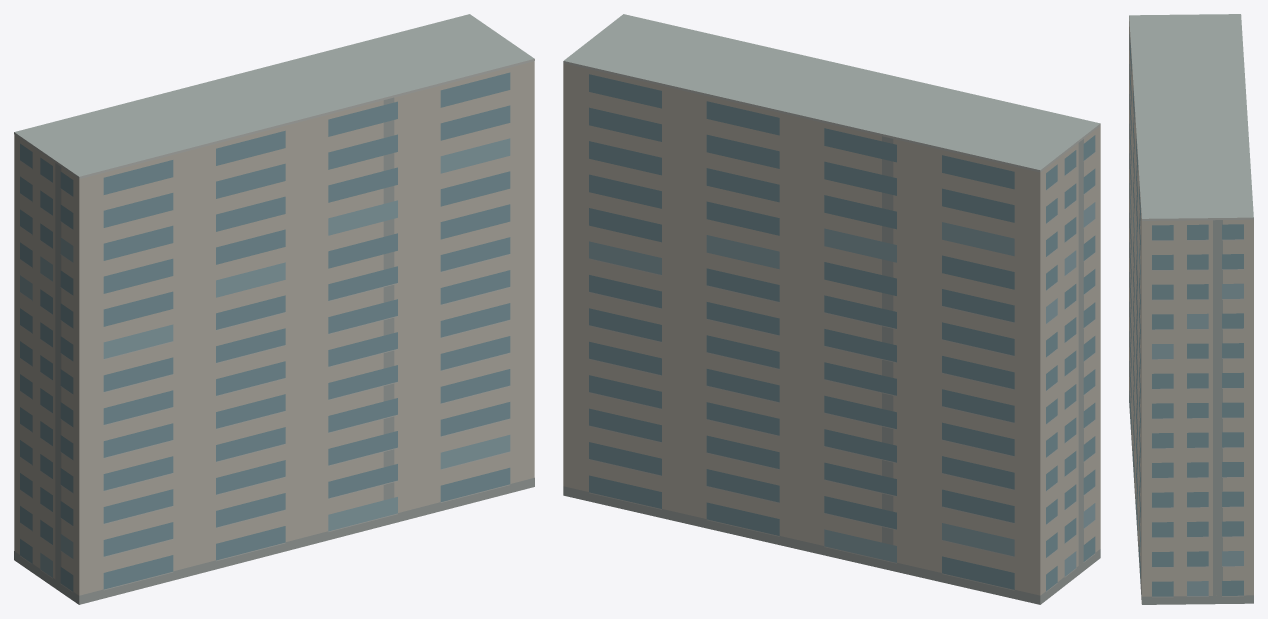
Rendered from residential-9ebe373f-c512-46cb-83fa-e6ce1643585a.glb.
3 renders of one model, left to right at view 1: azimuth 30°, elevation 25°; view 2: azimuth 150°, elevation 25°; view 3: azimuth 270°, elevation 25°, orthographic. The views are drawn at different scales.
Parts seen in each view (by area): view 1: residential-9ebe373f-c512-46cb-83fa-e6ce1643585a.tmp; view 2: residential-9ebe373f-c512-46cb-83fa-e6ce1643585a.tmp; view 3: residential-9ebe373f-c512-46cb-83fa-e6ce1643585a.tmp.
Part boxes in pixels (x1,y1,x2,y2): residential-9ebe373f-c512-46cb-83fa-e6ce1643585a.tmp: (14, 14, 534, 604); residential-9ebe373f-c512-46cb-83fa-e6ce1643585a.tmp: (563, 14, 1100, 604); residential-9ebe373f-c512-46cb-83fa-e6ce1643585a.tmp: (1129, 14, 1253, 604).
Bounding box in the file's own units: 51.23 × 45 × 13.19.
